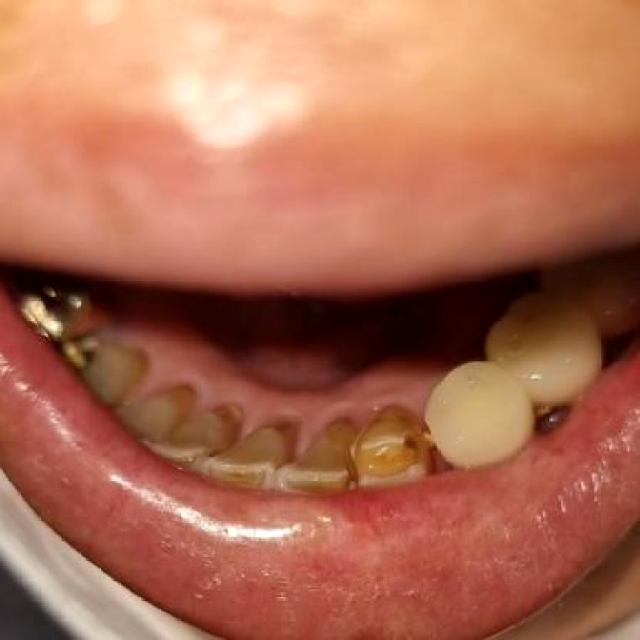Plaque: (195, 377, 426, 457)
